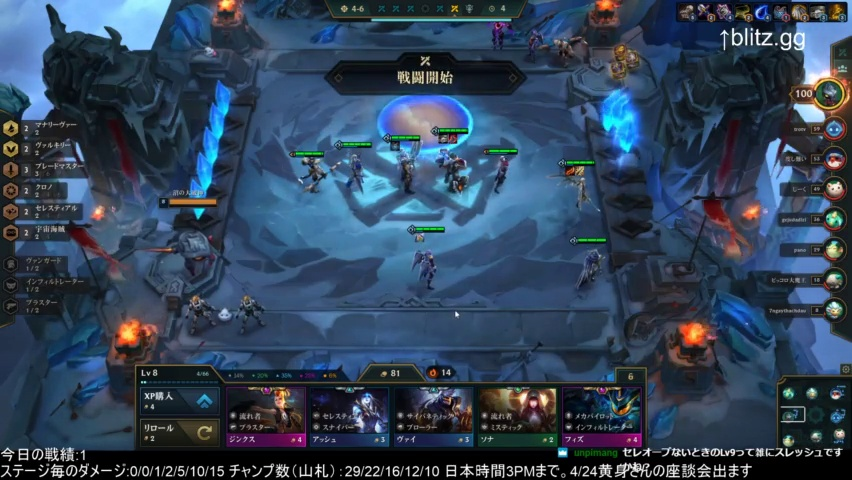ezreal: (229, 290, 271, 342)
kayle*2: guinsoo,shiv: (555, 156, 607, 232)
shen: (479, 144, 526, 202)
wukong: (287, 148, 340, 202)
